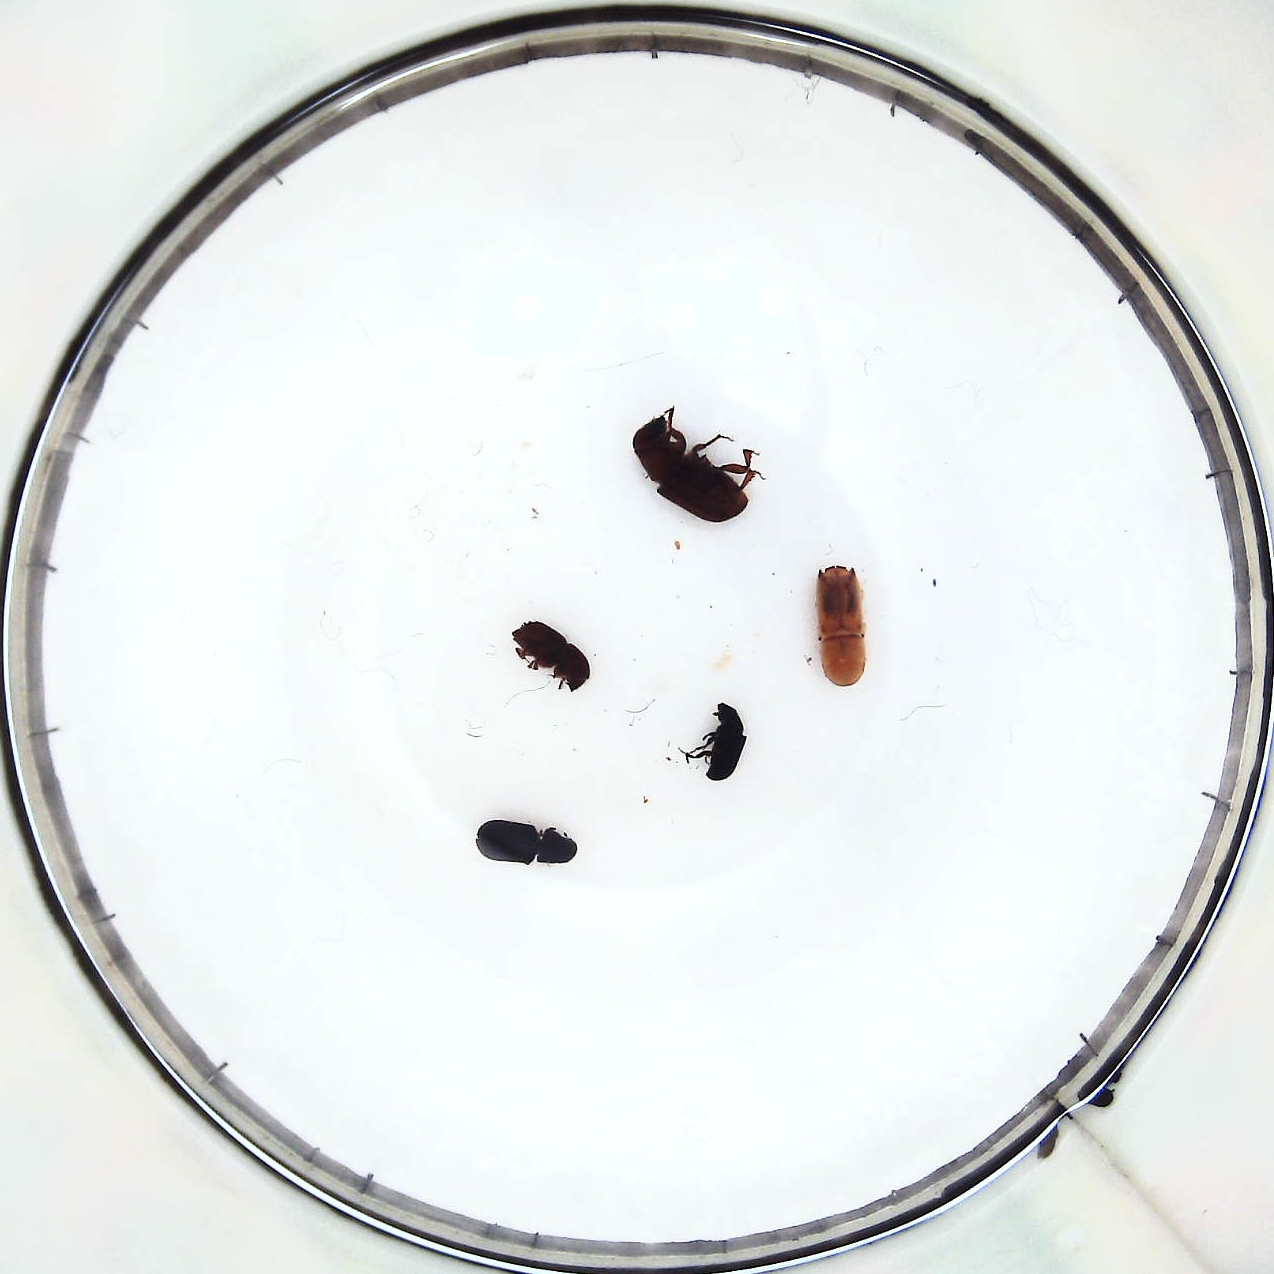Boerner: (812, 566, 866, 694)
Leconte: (632, 415, 752, 523)
Linnaeus: (511, 617, 589, 693)
armandi: (477, 817, 577, 868)
coleoptera: (699, 703, 750, 784)
